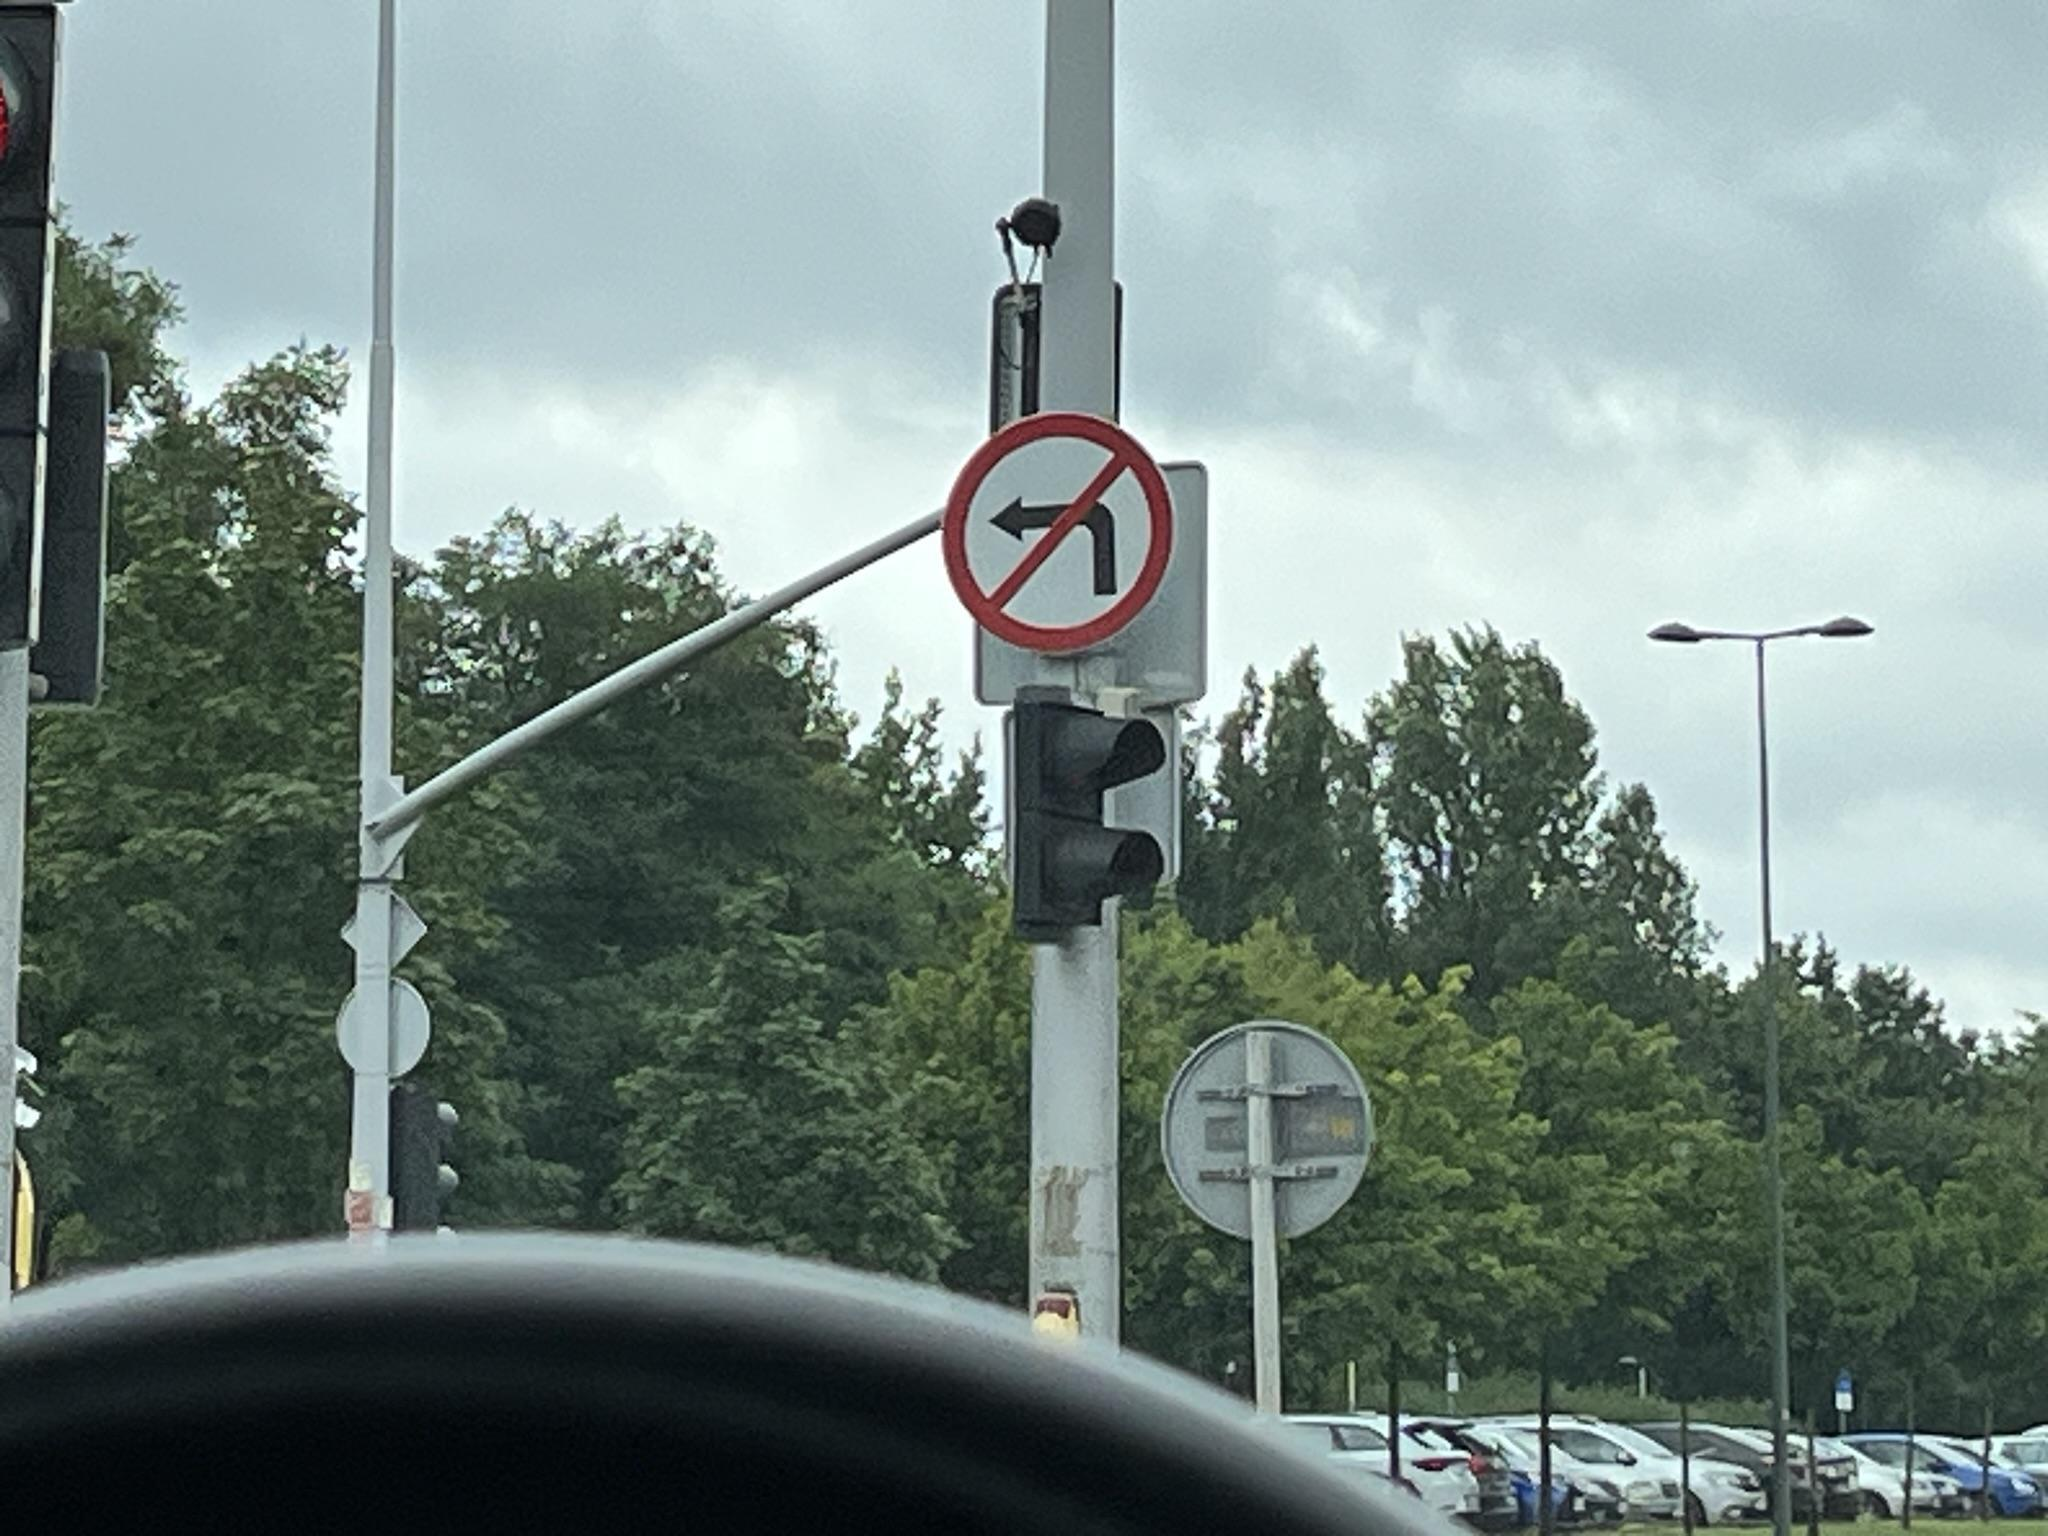prohibitory: (940, 408, 1176, 653)
